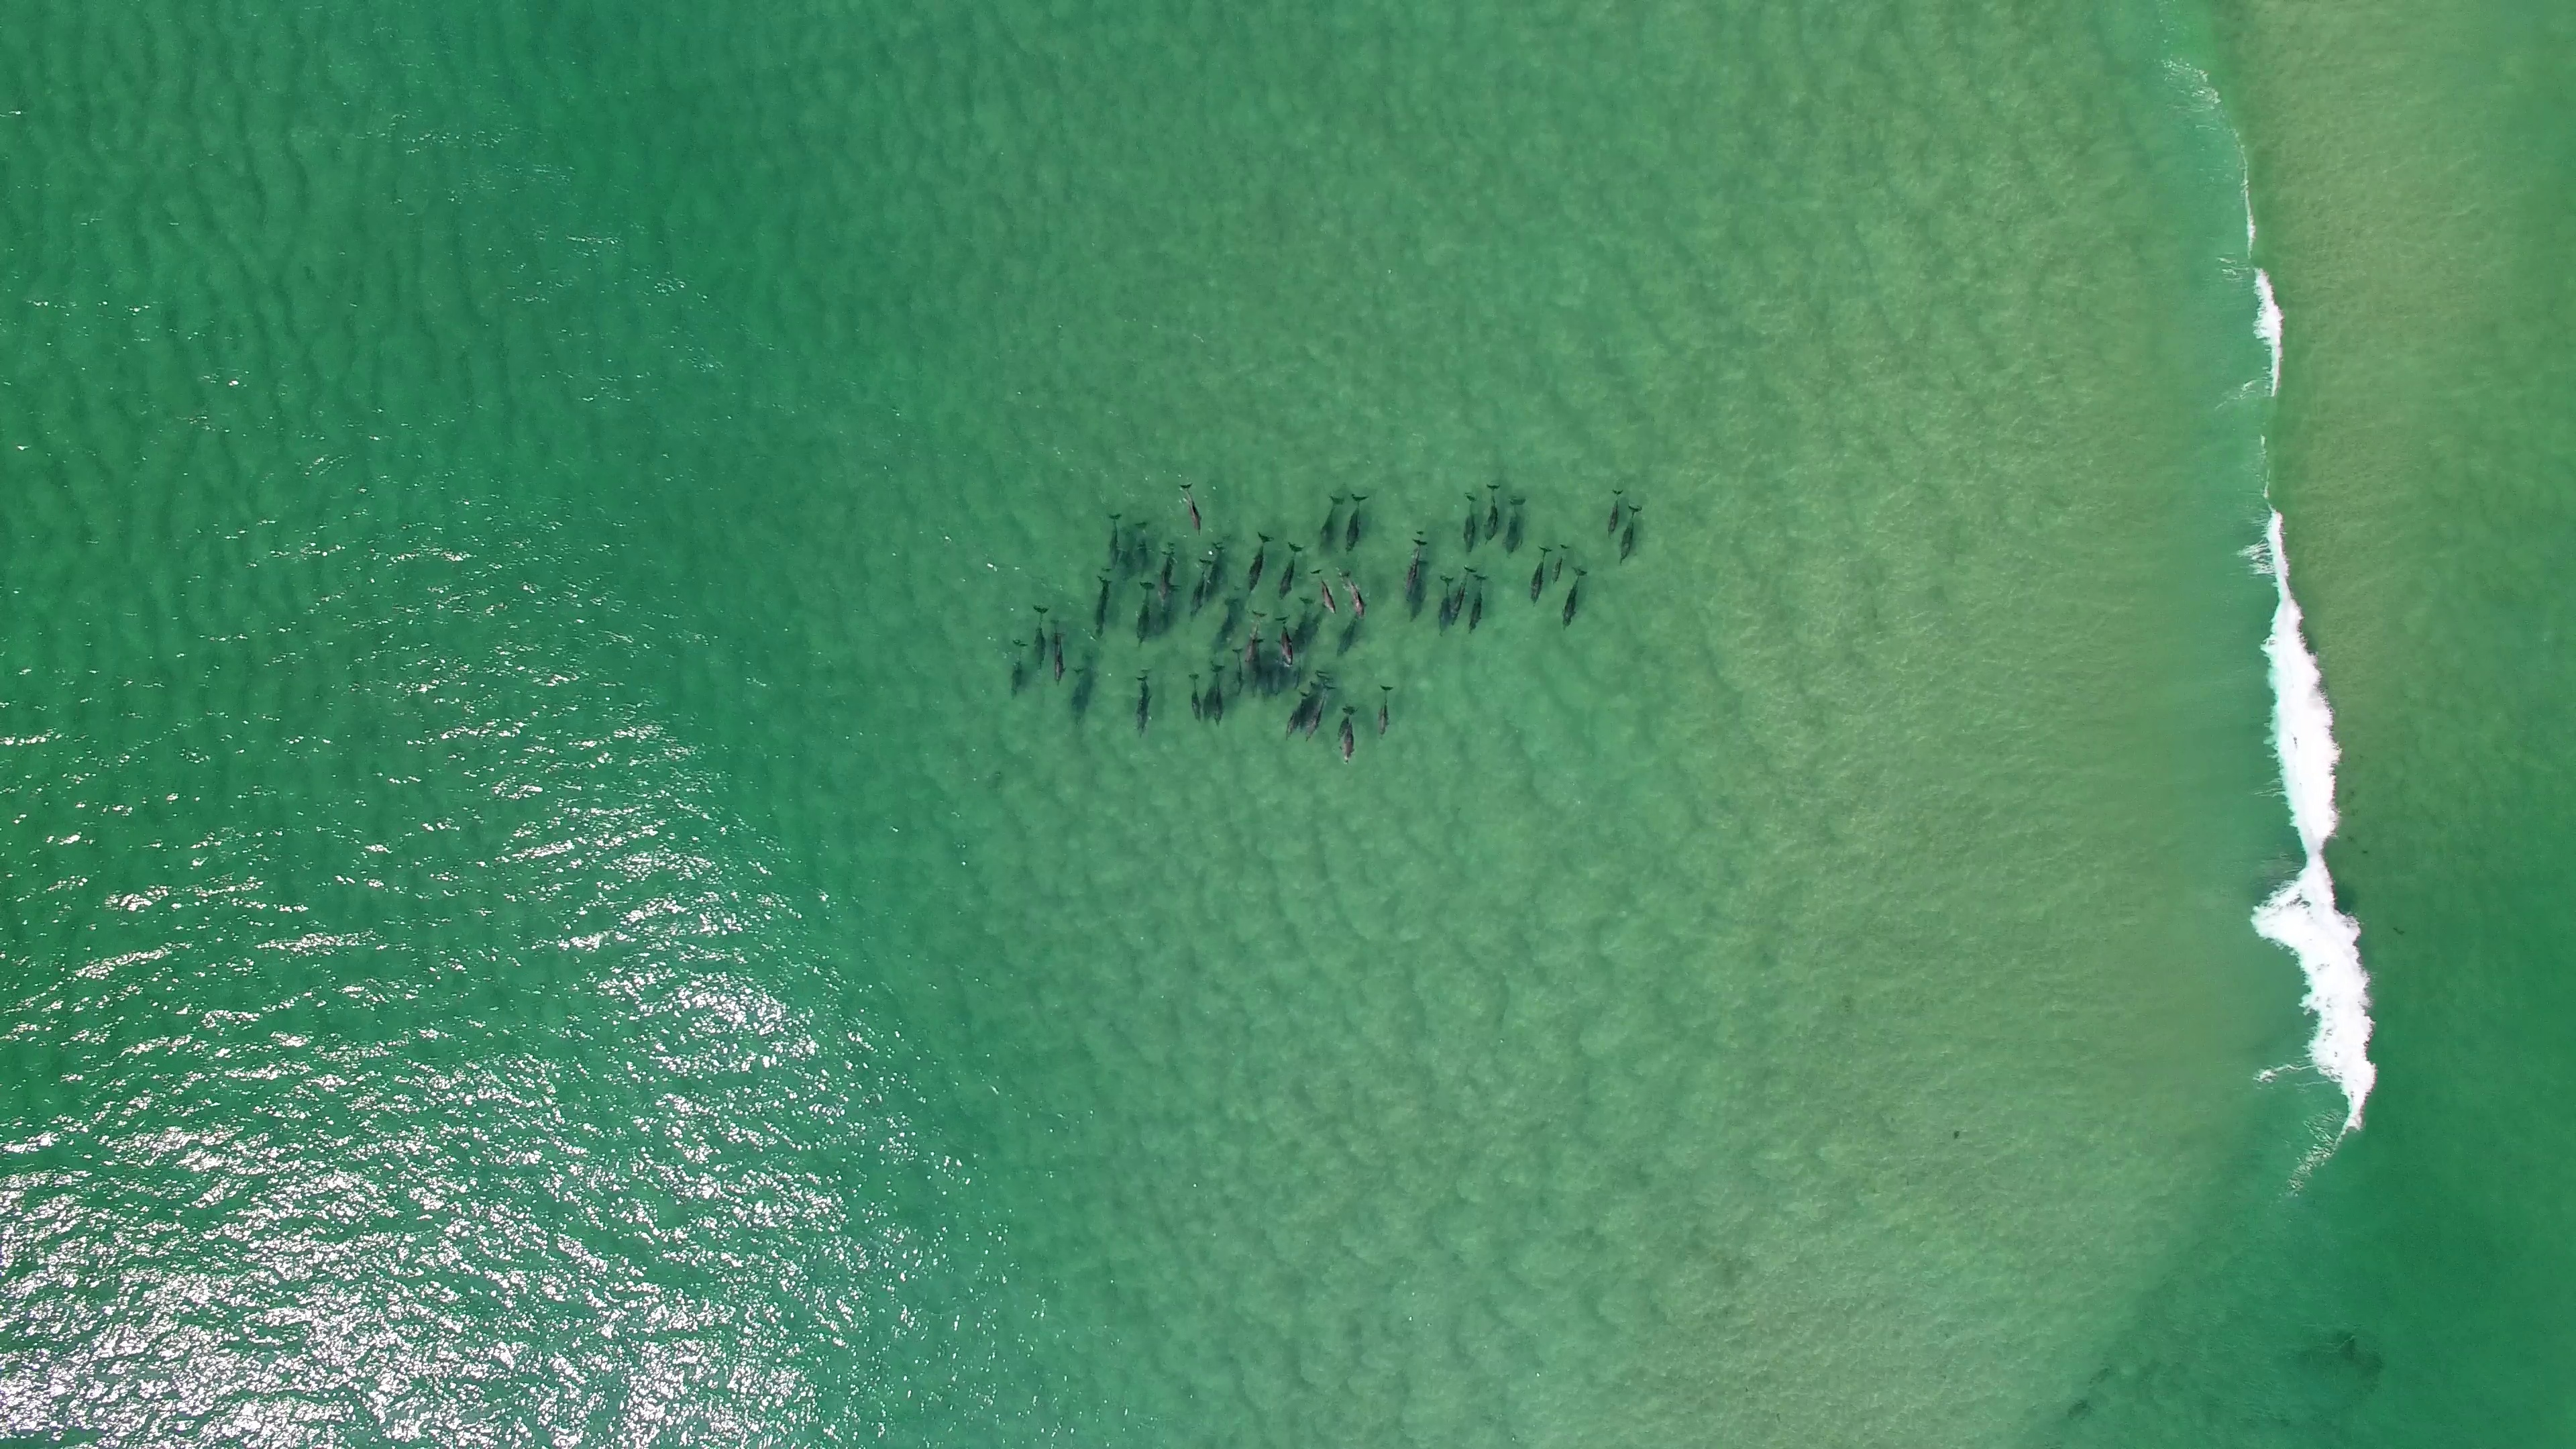dolphin: (1299, 669, 1334, 732), (1559, 563, 1589, 633), (1615, 501, 1645, 568), (1277, 540, 1307, 605), (1334, 571, 1373, 619), (1173, 483, 1207, 536), (1247, 525, 1272, 596), (1244, 609, 1265, 690), (1191, 554, 1214, 628), (1201, 538, 1230, 598), (1318, 495, 1348, 552), (1205, 663, 1228, 736), (1500, 495, 1529, 554), (1477, 483, 1502, 548), (1403, 538, 1430, 598), (1529, 541, 1552, 610), (1031, 600, 1053, 674), (1311, 681, 1336, 741), (1346, 492, 1371, 552), (1309, 568, 1339, 617), (1336, 609, 1366, 656), (1007, 635, 1028, 702), (1470, 570, 1491, 637), (1338, 708, 1361, 770), (1453, 563, 1476, 625), (1136, 582, 1155, 655), (1270, 614, 1295, 671), (1217, 589, 1240, 649), (1458, 492, 1481, 552), (1159, 541, 1177, 619), (1297, 593, 1316, 662), (1047, 619, 1065, 690), (1095, 573, 1113, 644), (1185, 671, 1205, 729), (1605, 487, 1626, 538), (1118, 525, 1138, 580), (1376, 681, 1394, 741), (1438, 575, 1456, 635), (1288, 690, 1309, 738), (1074, 662, 1088, 729), (1336, 702, 1357, 745), (1136, 676, 1150, 738), (1108, 510, 1123, 564), (1552, 540, 1571, 584), (1230, 648, 1247, 695), (1136, 522, 1150, 579)
